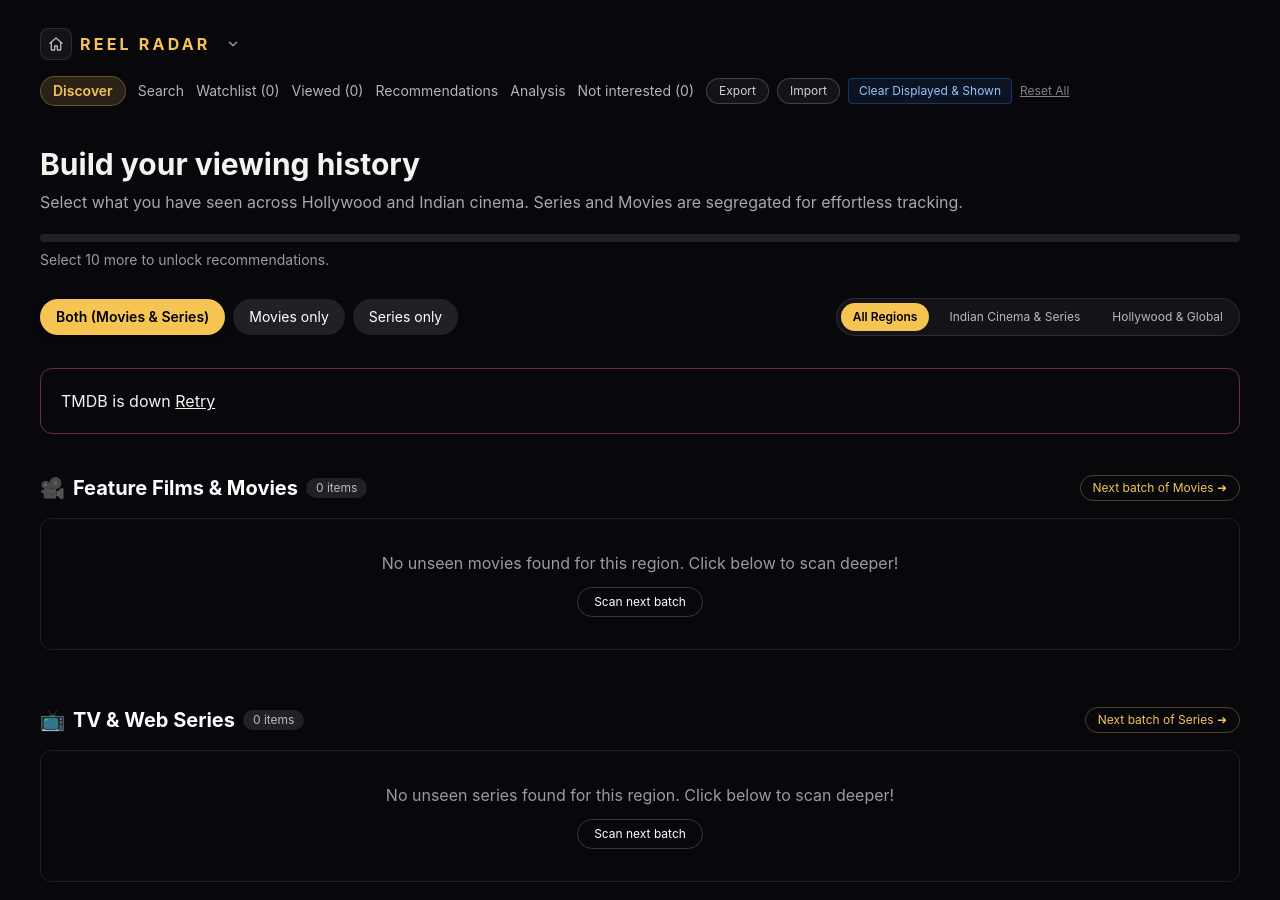
Test: Discover › shows an error with a retry
Expected: the text "TMDB is down" is shown, [61, 391, 171, 411]
Click the button "Retry" at coordinates (195, 401), box [175, 389, 215, 413]
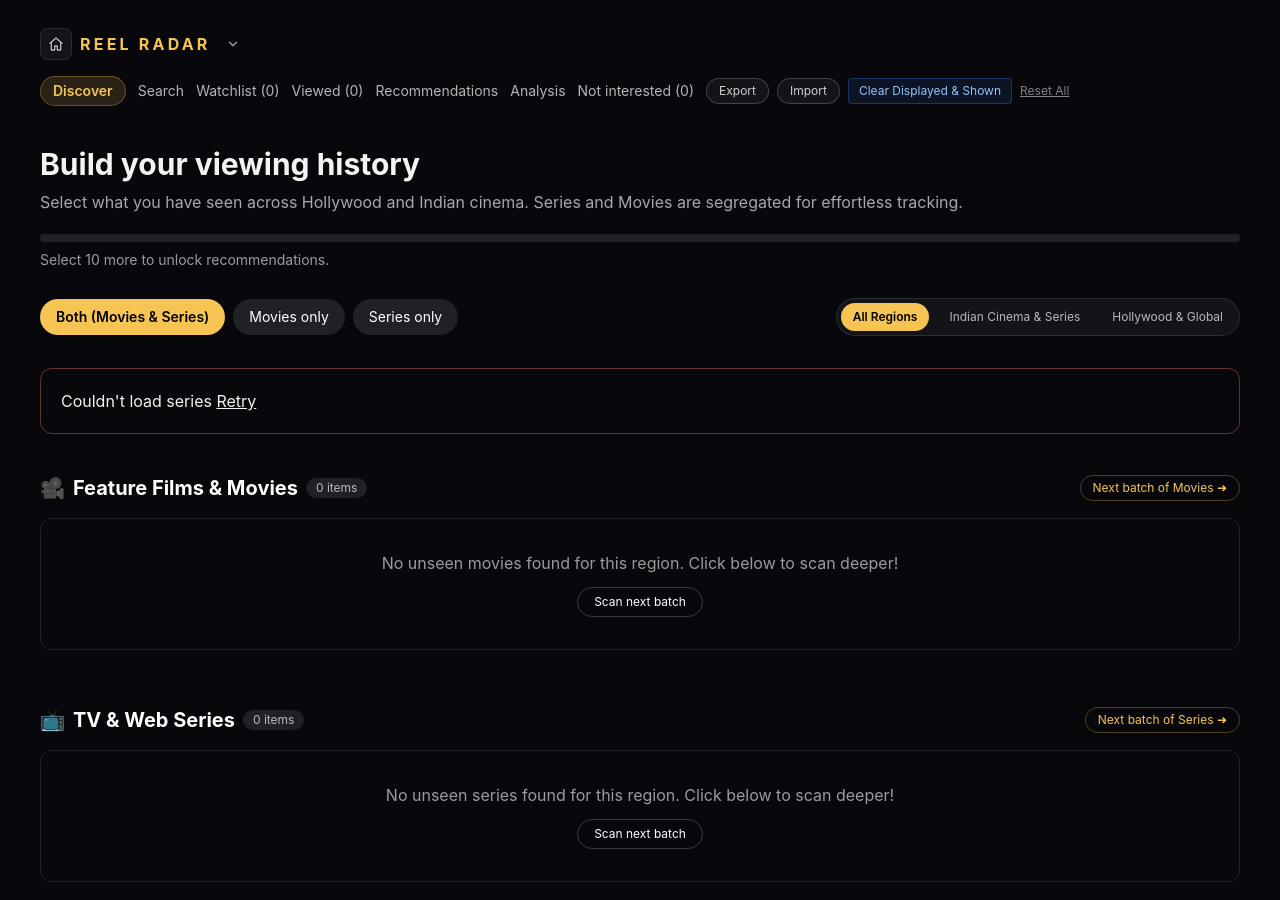
Expected: the text "Couldn't load series Retry" is shown, [40, 368, 1240, 434]
Click the button "Retry" at coordinates (236, 401), box [216, 389, 256, 413]
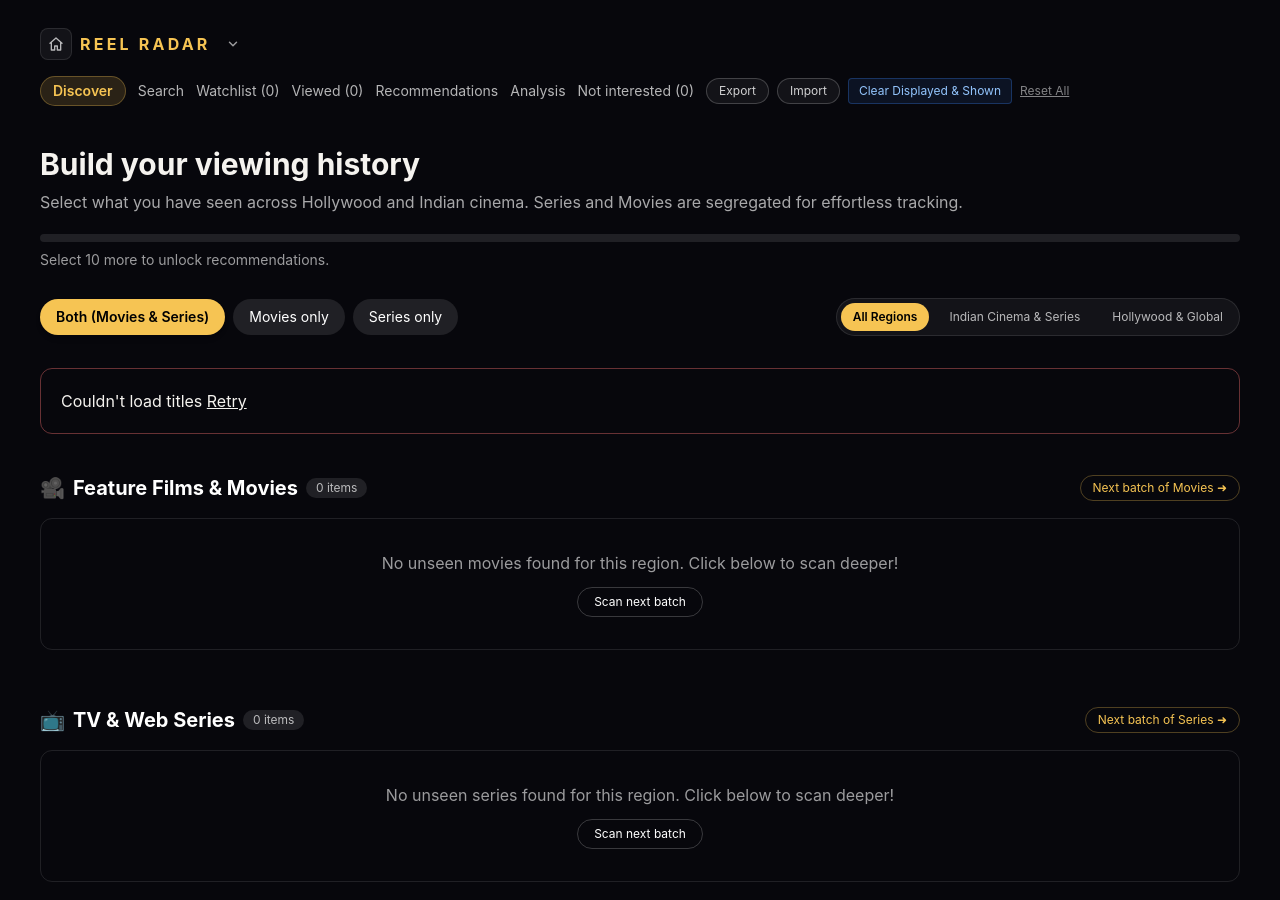
Expected: the text "Couldn't load titles Retry" is shown, [40, 368, 1240, 434]
